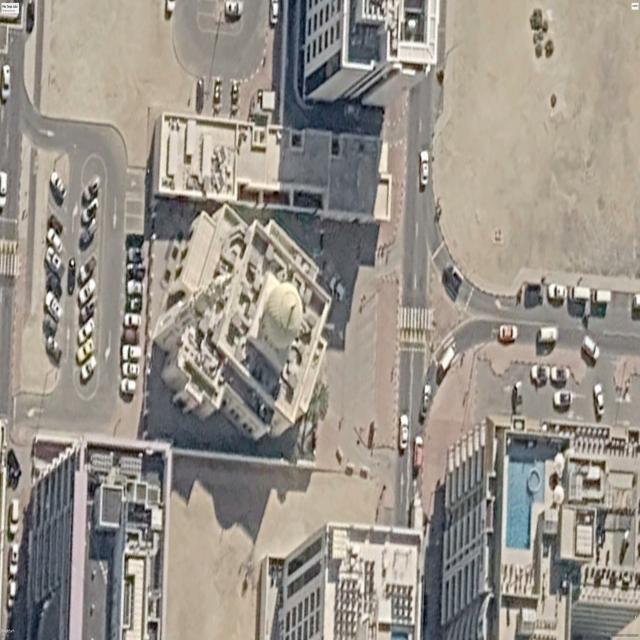Home: (153, 205, 331, 440)
